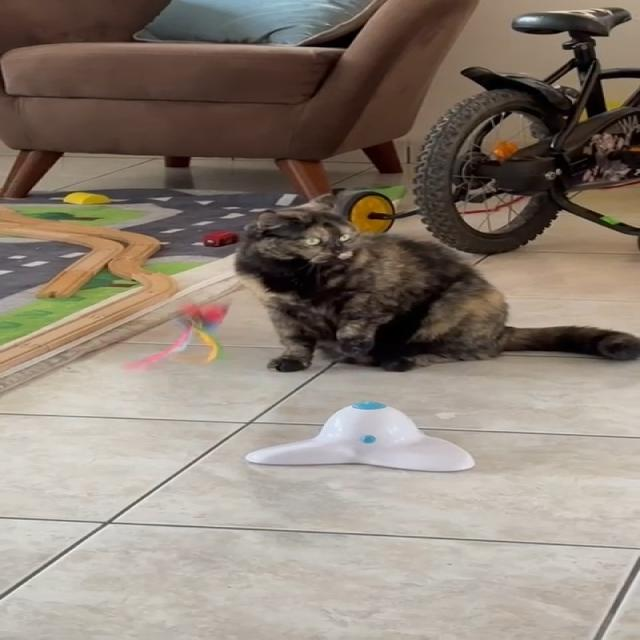authorized: (232, 192, 639, 373)
